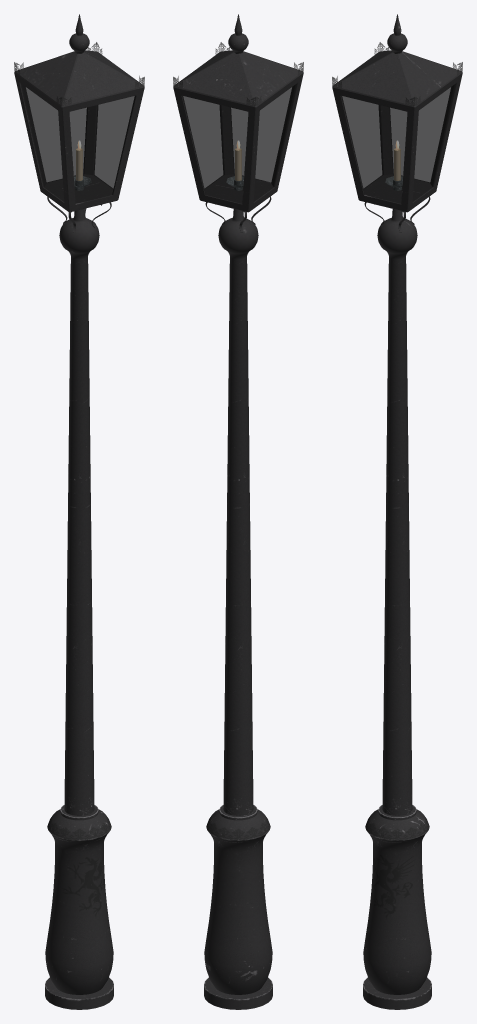
Rendered from christmas_lamp_post.glb.
The picture shows the model from 3 angles, left to right: view 1: azimuth 30°, elevation 25°; view 2: azimuth 150°, elevation 25°; view 3: azimuth 330°, elevation 25°; orthographic projection.
Visible parts, largest first — view 1: Pole_7, Enclosure_5, Glass_2, Ornament_Top_4, Candle_0, Ornament_Enclosure_3; view 2: Pole_7, Enclosure_5, Glass_2, Ornament_Top_4, Candle_0, Ornament_Enclosure_3; view 3: Pole_7, Enclosure_5, Glass_2, Ornament_Top_4, Candle_0, Ornament_Enclosure_3.
Part boxes in pixels (x1,y1,x2,y2): Pole_7: (45, 209, 113, 1009); Enclosure_5: (14, 50, 144, 212); Glass_2: (20, 83, 135, 203); Ornament_Top_4: (69, 14, 89, 53); Candle_0: (74, 148, 91, 190); Ornament_Enclosure_3: (14, 42, 144, 105); Pole_7: (204, 209, 272, 1009); Enclosure_5: (173, 50, 303, 212); Glass_2: (182, 83, 297, 203); Ornament_Top_4: (228, 14, 248, 53); Candle_0: (226, 148, 243, 190); Ornament_Enclosure_3: (173, 42, 303, 105); Pole_7: (363, 209, 431, 1009); Enclosure_5: (332, 50, 462, 212); Glass_2: (341, 83, 456, 203); Ornament_Top_4: (387, 14, 407, 53); Candle_0: (385, 148, 402, 190); Ornament_Enclosure_3: (332, 42, 462, 105).
Size of the model in its own units: 0.2668 by 3 by 0.2668.
Materials: 4 (2 with a texture image).
